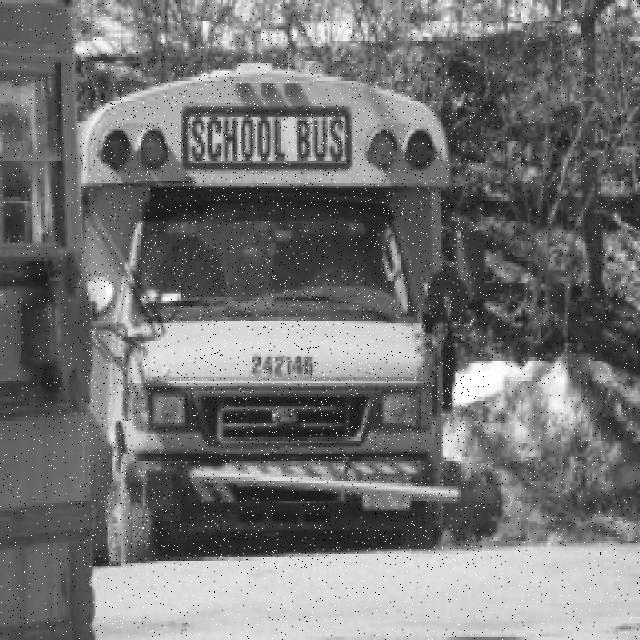Bus- Small: (80, 63, 485, 568)
